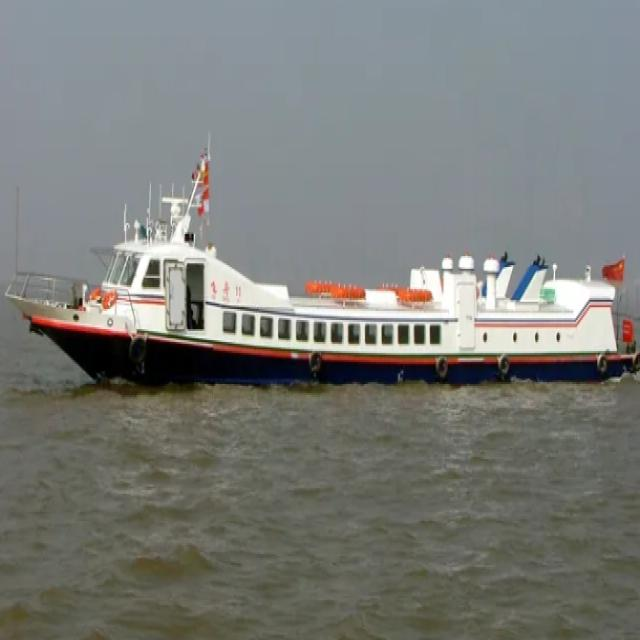houseboat: (1, 146, 640, 402)
